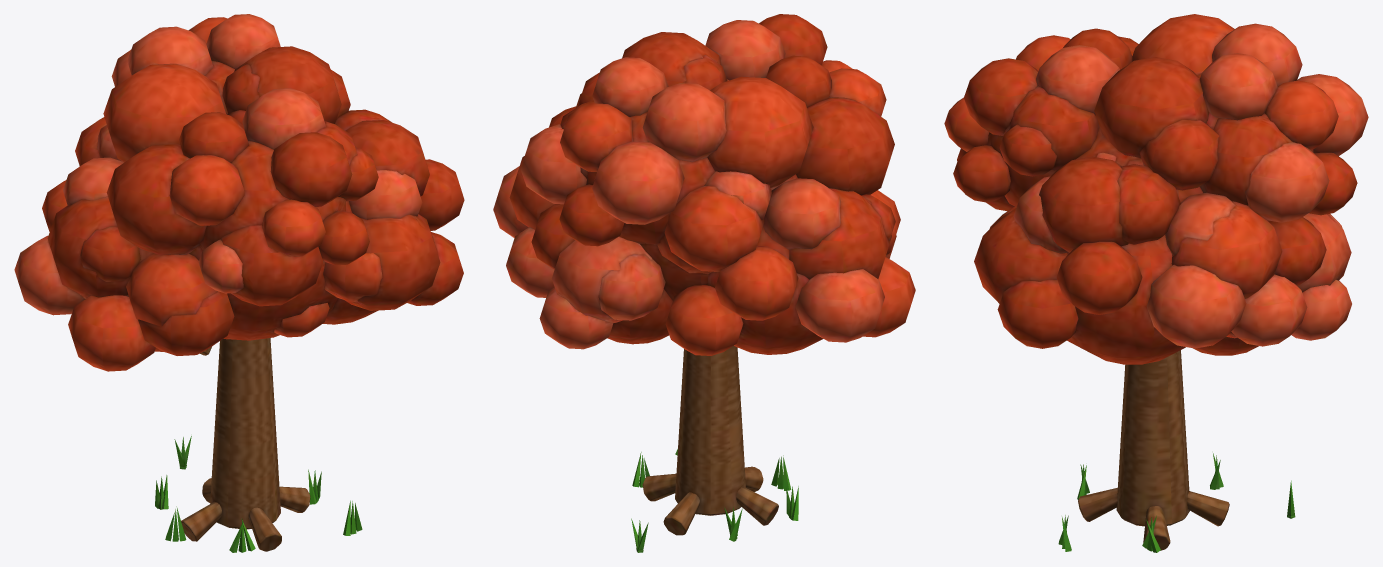
File: maple_tree.glb
The picture shows the model from 3 angles, left to right: view 1: azimuth 30°, elevation 25°; view 2: azimuth 150°, elevation 25°; view 3: azimuth 270°, elevation 25°; orthographic projection. The views are drawn at different scales.
Visible parts, largest first — view 1: crown, maple_tree; view 2: crown, maple_tree; view 3: crown, maple_tree.
Part boxes in pixels (left/top/right/bottom): crown: left=14, top=14, right=464, bottom=371; maple_tree: left=155, top=338, right=362, bottom=552; crown: left=493, top=14, right=915, bottom=355; maple_tree: left=631, top=345, right=798, bottom=552; crown: left=944, top=14, right=1368, bottom=364; maple_tree: left=1058, top=350, right=1295, bottom=552.
Bounding box in the file's own units: 1.13 × 1.3 × 1.03.
Materials: 1 (1 with a texture image).
